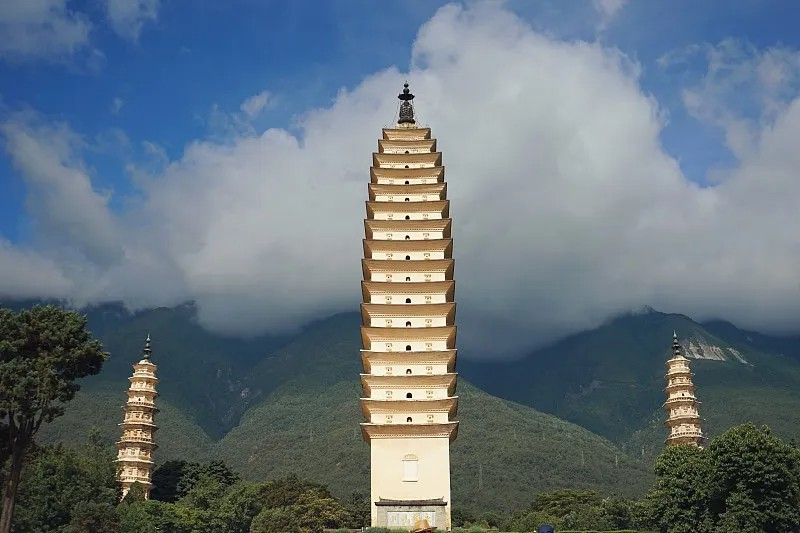ThreePagoda: (360, 79, 459, 533)
